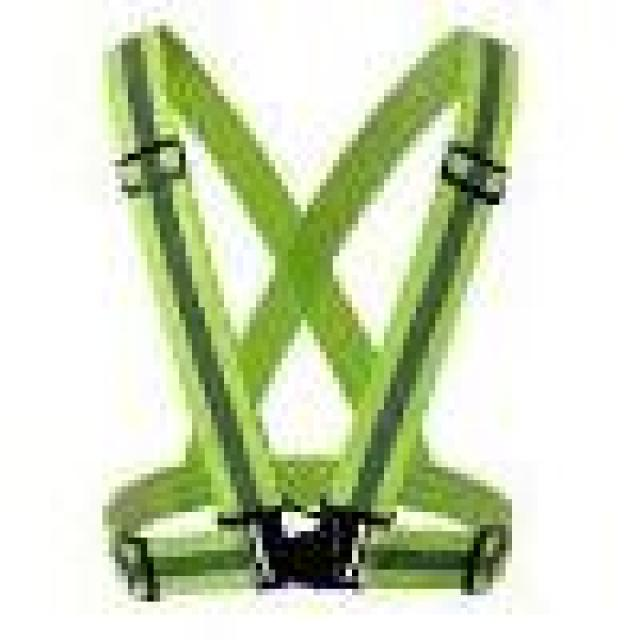Reflective-Jacket: (6, 0, 602, 634)
